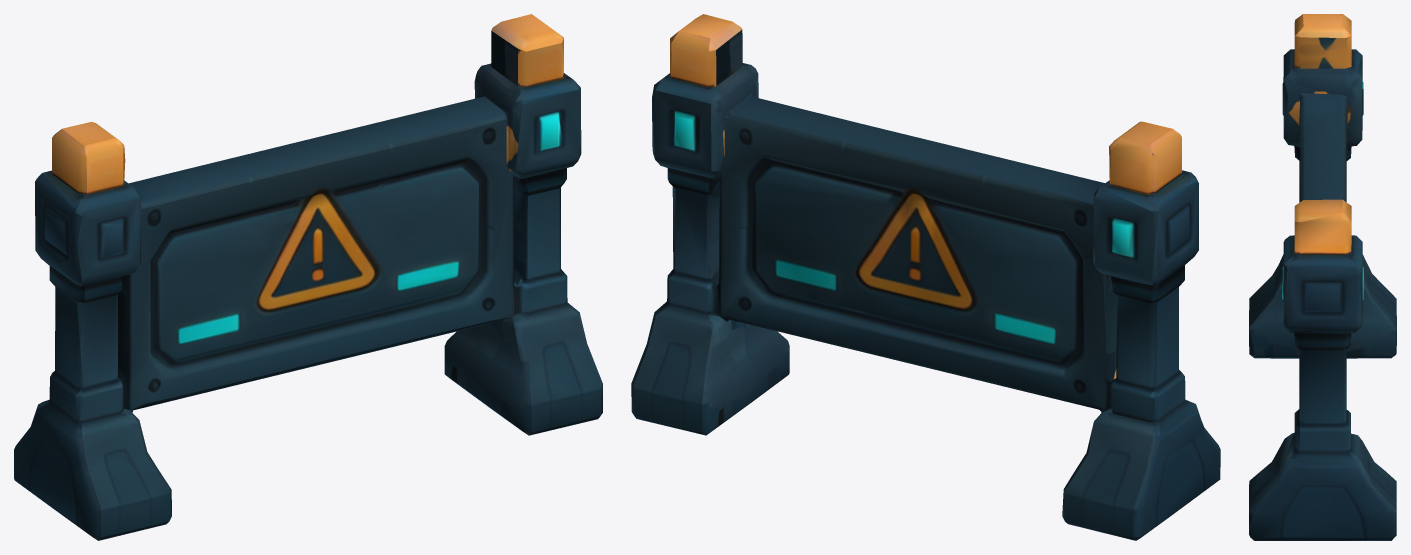
Rendered from Obs9.fbx.
3 renders of one model, left to right at view 1: azimuth 30°, elevation 25°; view 2: azimuth 150°, elevation 25°; view 3: azimuth 270°, elevation 25°, orthographic. The views are drawn at different scales.
Visible parts, largest first — view 1: tmptpjm0w34.ply; view 2: tmptpjm0w34.ply; view 3: tmptpjm0w34.ply.
Boxes of the visible parts, box(x1,y1,x2,y2) form: tmptpjm0w34.ply: box(14, 14, 602, 540); tmptpjm0w34.ply: box(631, 14, 1220, 540); tmptpjm0w34.ply: box(1249, 14, 1396, 540).
Size of the model in its own units: 199 by 138 by 57.66.
Materials: 1 (1 with a texture image).
